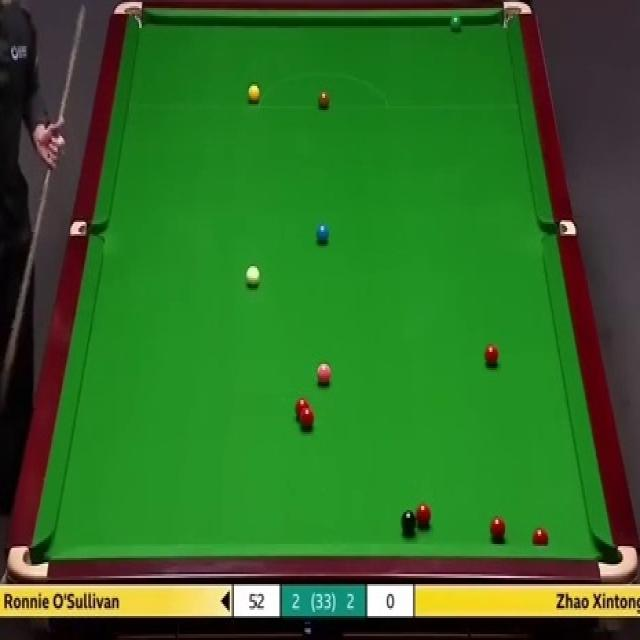pocket: (595, 543, 638, 583), (6, 543, 49, 580), (500, 0, 532, 32), (112, 2, 145, 29), (540, 218, 577, 237), (69, 218, 103, 236)
